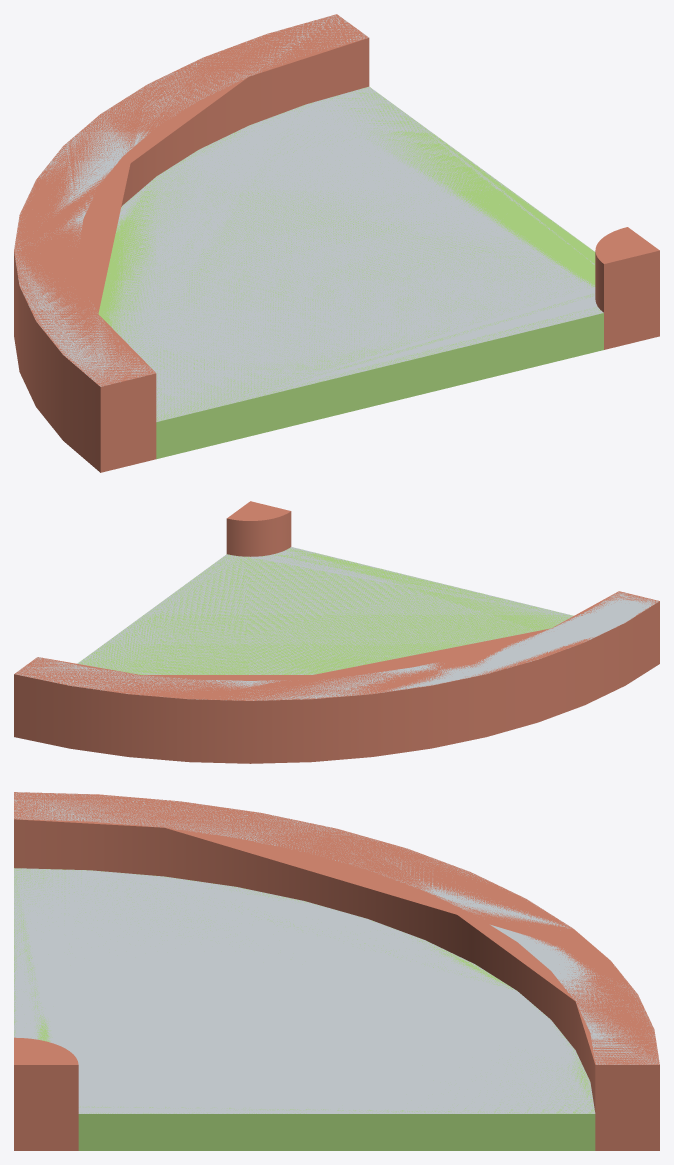
The model's file is Round_corner_1_01.glb.
The picture shows the model from 3 angles, top to bottom: view 1: azimuth 30°, elevation 25°; view 2: azimuth 150°, elevation 25°; view 3: azimuth 270°, elevation 25°; orthographic projection. The views are drawn at different scales.
Visible parts, largest first — view 1: Mesh1 Round_corner_1 Model; view 2: Mesh1 Round_corner_1 Model; view 3: Mesh1 Round_corner_1 Model.
Part boxes in pixels (x1=…): Mesh1 Round_corner_1 Model: x1=14, y1=14, x2=659, y2=472; Mesh1 Round_corner_1 Model: x1=14, y1=501, x2=659, y2=763; Mesh1 Round_corner_1 Model: x1=14, y1=792, x2=659, y2=1150.
Bounding box in the file's own units: 3 × 0.44 × 3.
